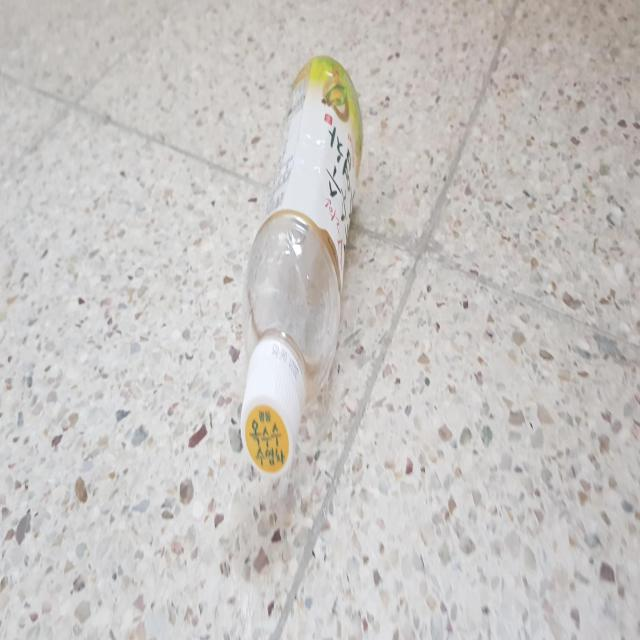plastic: (241, 55, 363, 475)
